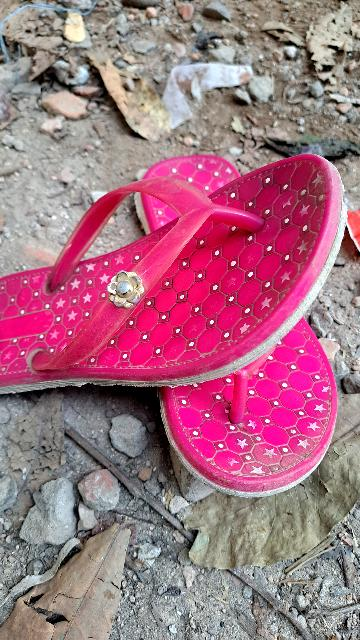sandal: (0, 128, 360, 392), (110, 127, 360, 497)
